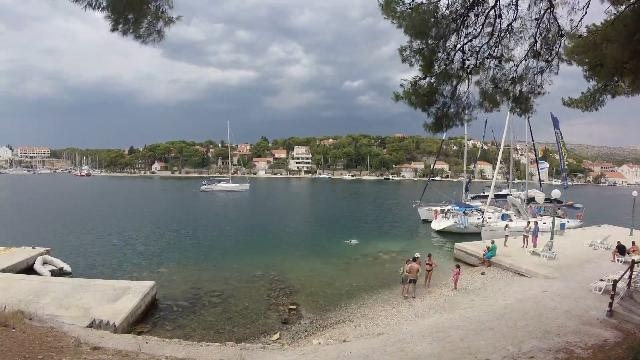Sailboat: (195, 176, 258, 194)
